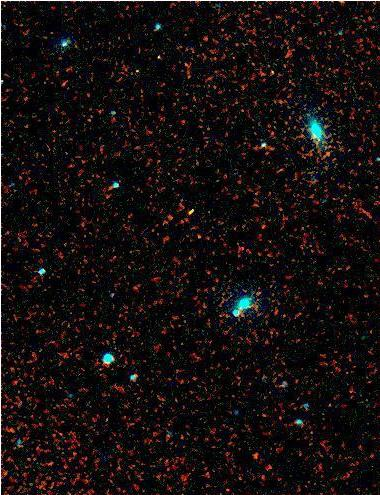star: (240, 440, 270, 470)
